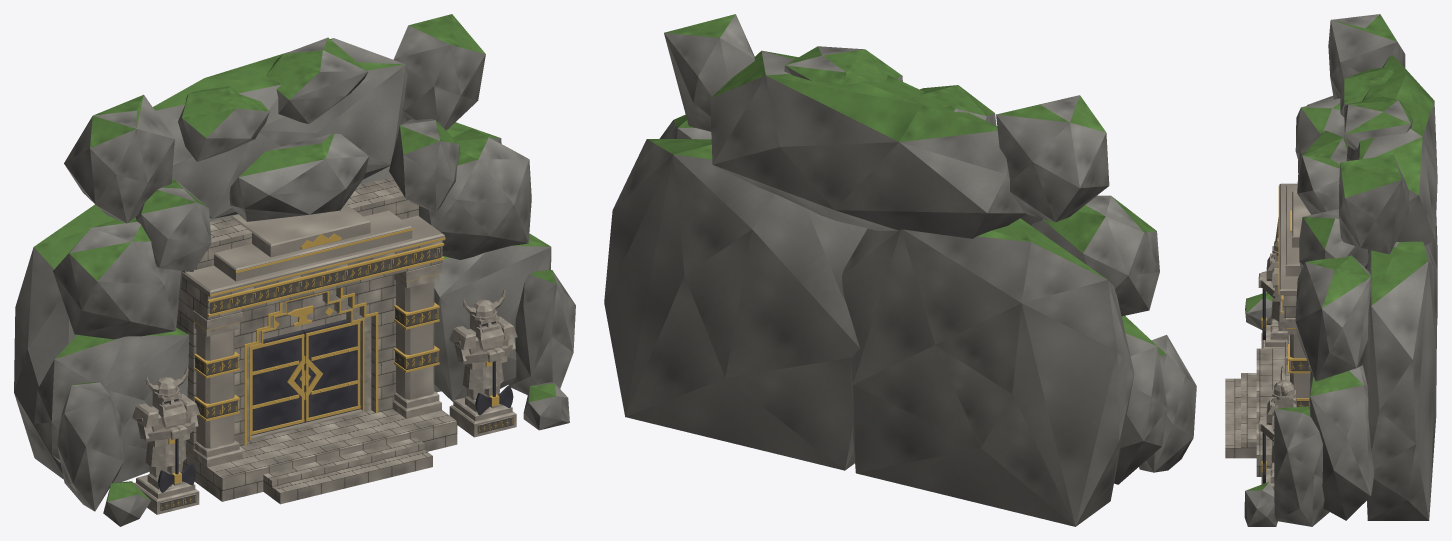
Rendered from dwarf_gate.fbx.
3 renders of one model, left to right at view 1: azimuth 30°, elevation 25°; view 2: azimuth 150°, elevation 25°; view 3: azimuth 270°, elevation 25°, orthographic. The views are drawn at different scales.
Parts seen in each view (by area): view 1: dwarf_gate_Rock, dwarf_gate_Stone, dwarf_gate_Statues, dwarf_gate_Gold, dwarf_gate_DoorR, dwarf_gate_DoorL; view 2: dwarf_gate_Rock; view 3: dwarf_gate_Rock, dwarf_gate_Stone, dwarf_gate_Statues, dwarf_gate_Gold.
Part boxes in pixels (<box>): dwarf_gate_Rock: <box>14,14,575,526</box>; dwarf_gate_Stone: <box>176,177,457,504</box>; dwarf_gate_Statues: <box>132,289,517,514</box>; dwarf_gate_Gold: <box>193,228,445,445</box>; dwarf_gate_DoorR: <box>302,319,360,422</box>; dwarf_gate_DoorL: <box>251,330,305,435</box>; dwarf_gate_Rock: <box>604,14,1196,526</box>; dwarf_gate_Rock: <box>1244,14,1437,526</box>; dwarf_gate_Stone: <box>1225,183,1310,476</box>; dwarf_gate_Statues: <box>1258,238,1296,490</box>; dwarf_gate_Gold: <box>1278,186,1310,400</box>.
Size of the model in its own units: 85.41 by 58.86 by 33.73.
Materials: 1 (1 with a texture image).
